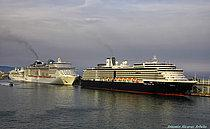Ship: (80, 57, 203, 103), (20, 56, 85, 91)
